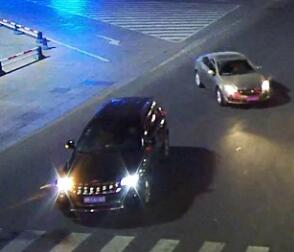car: (58, 96, 168, 219), (194, 51, 270, 102)
